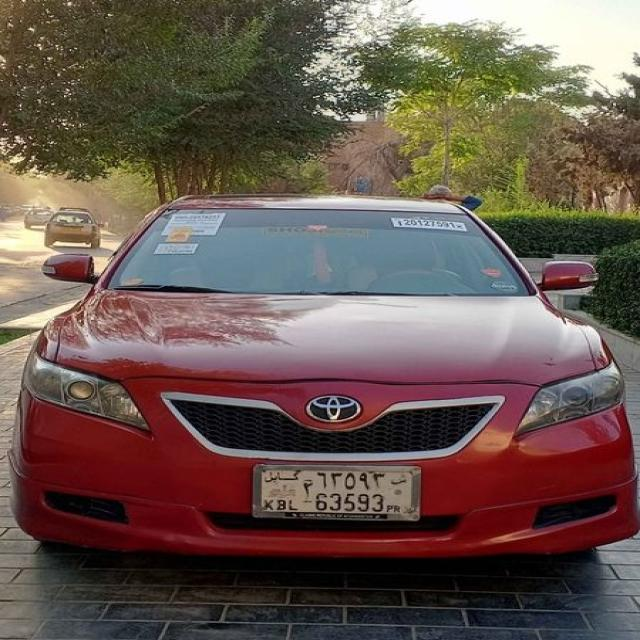Plate: (247, 460, 422, 522)
